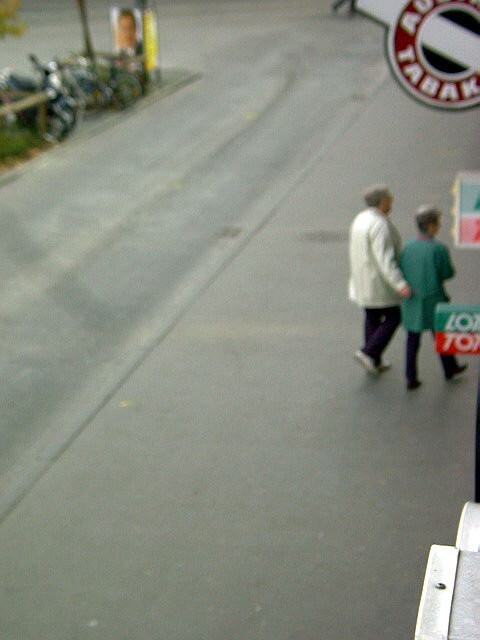person: (343, 183, 416, 379), (404, 199, 469, 392)
